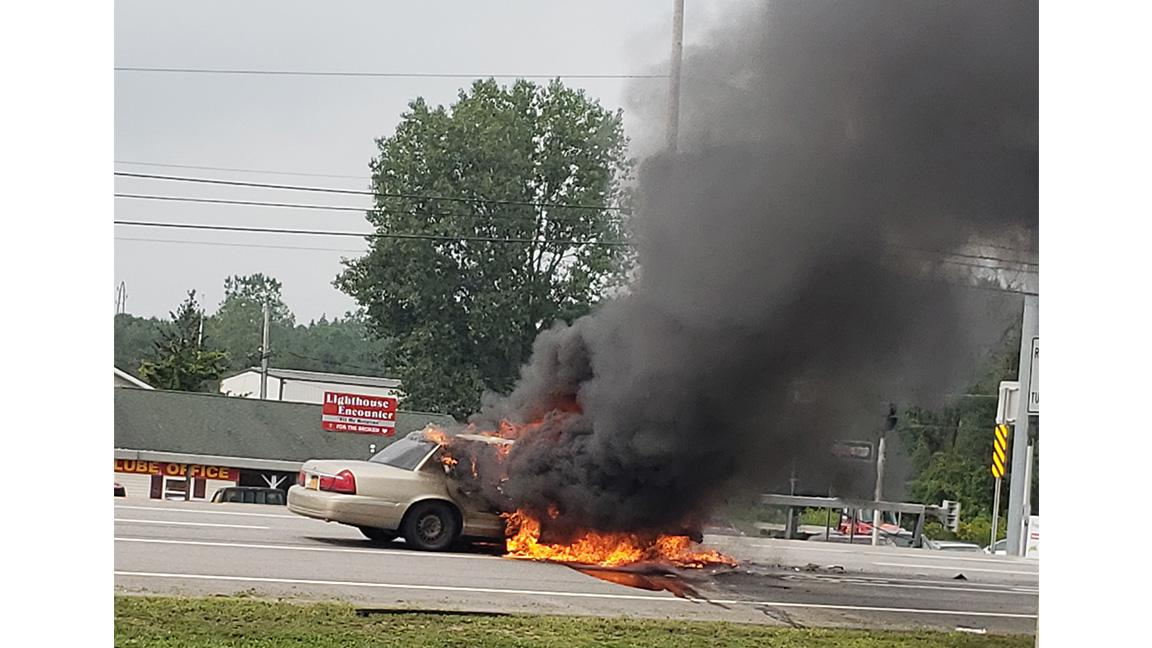car: (286, 408, 752, 581)
